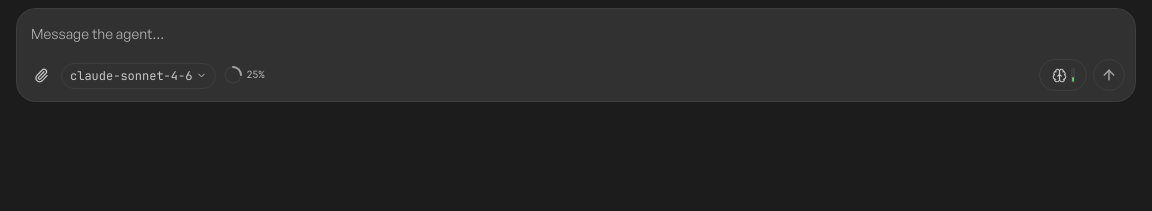
Test: Composer › popover dismissal › closes on Escape and discards the drag preview
Step 1. Click the button with test id "effort-chip" → (1063, 75), box [1039,59,1087,91]
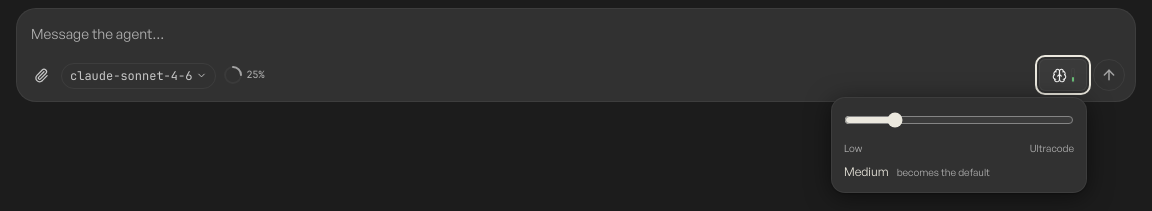
Step 2. Set the slider with test id "effort-slider" to "0" → (852, 120), box [844,112,1074,128]
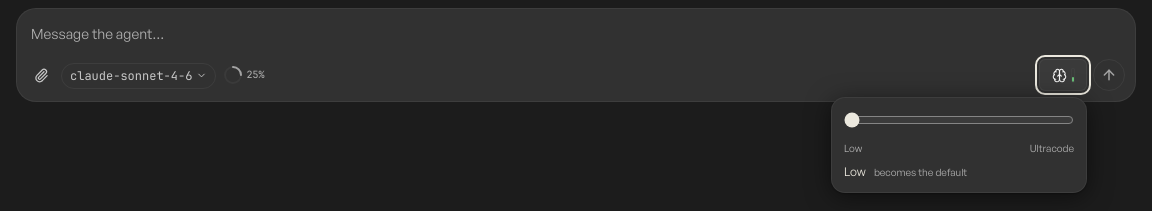
Step 3. Press Escape
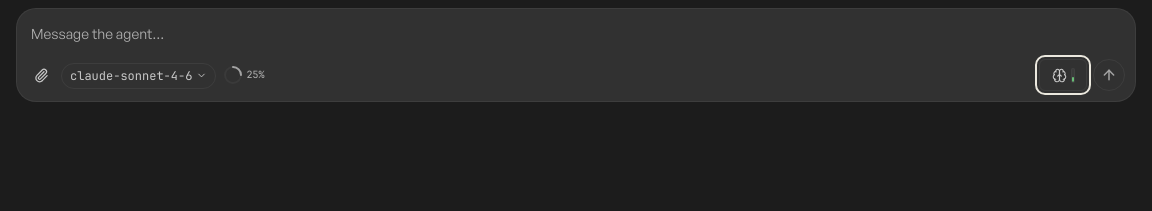
expect the slider with test id "effort-slider" is gone: met
